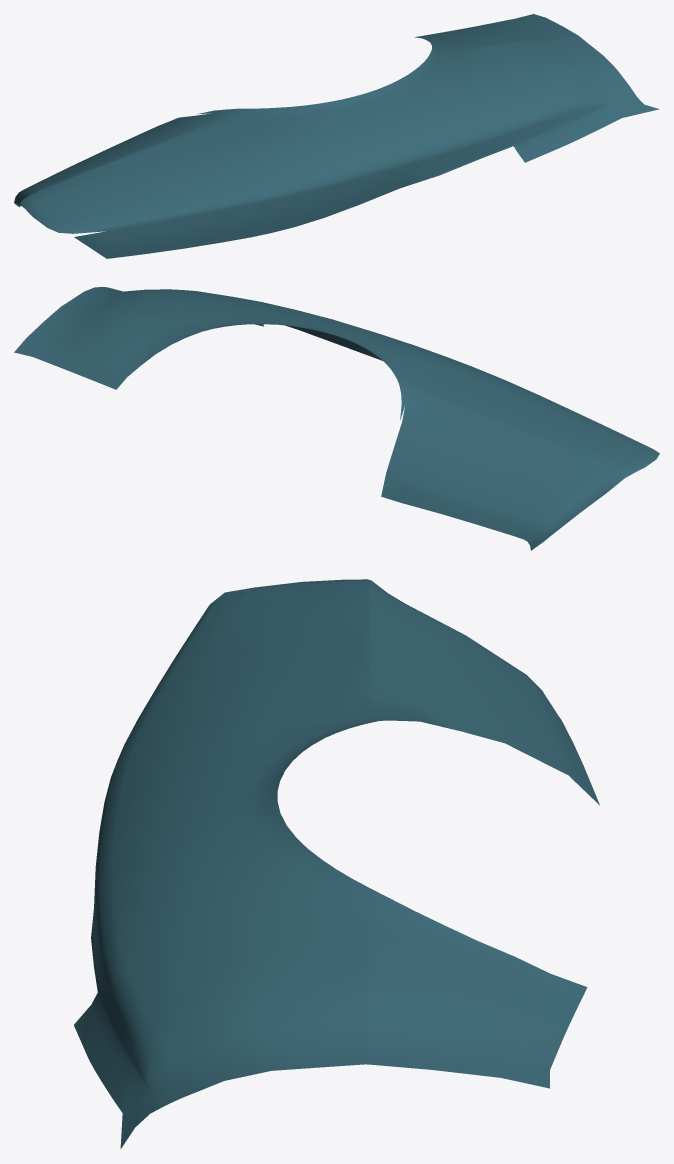
The model's file is CamaroBackFenderLeft.obj.
The picture shows the model from 3 angles, top to bottom: view 1: azimuth 30°, elevation 25°; view 2: azimuth 150°, elevation 25°; view 3: azimuth 270°, elevation 25°; orthographic projection. The views are drawn at different scales.
Bounding box in the file's own units: 7.39 × 1.2 × 2.9.
